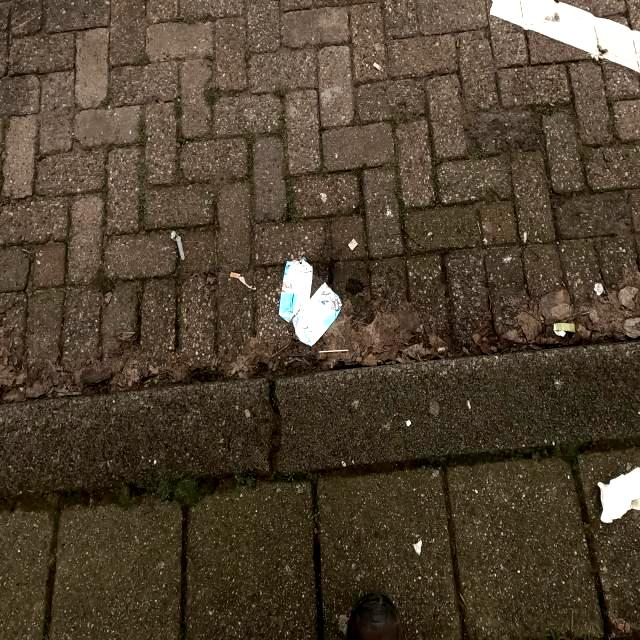Metal: (292, 280, 342, 346), (278, 256, 312, 322)
Paper: (486, 0, 640, 74), (596, 464, 640, 524)
